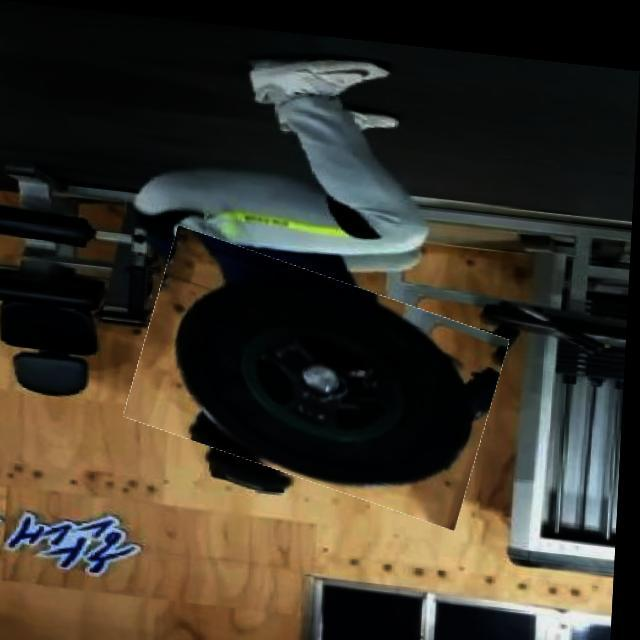barbell: (135, 237, 507, 506)
